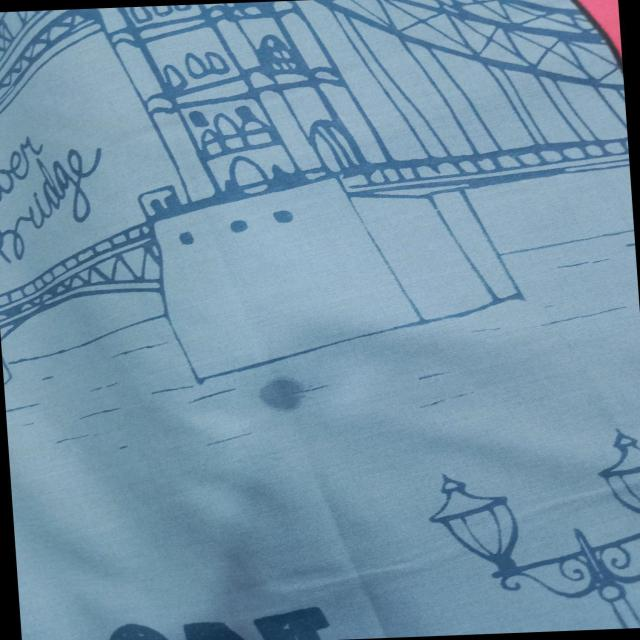stain: (252, 366, 311, 419)
